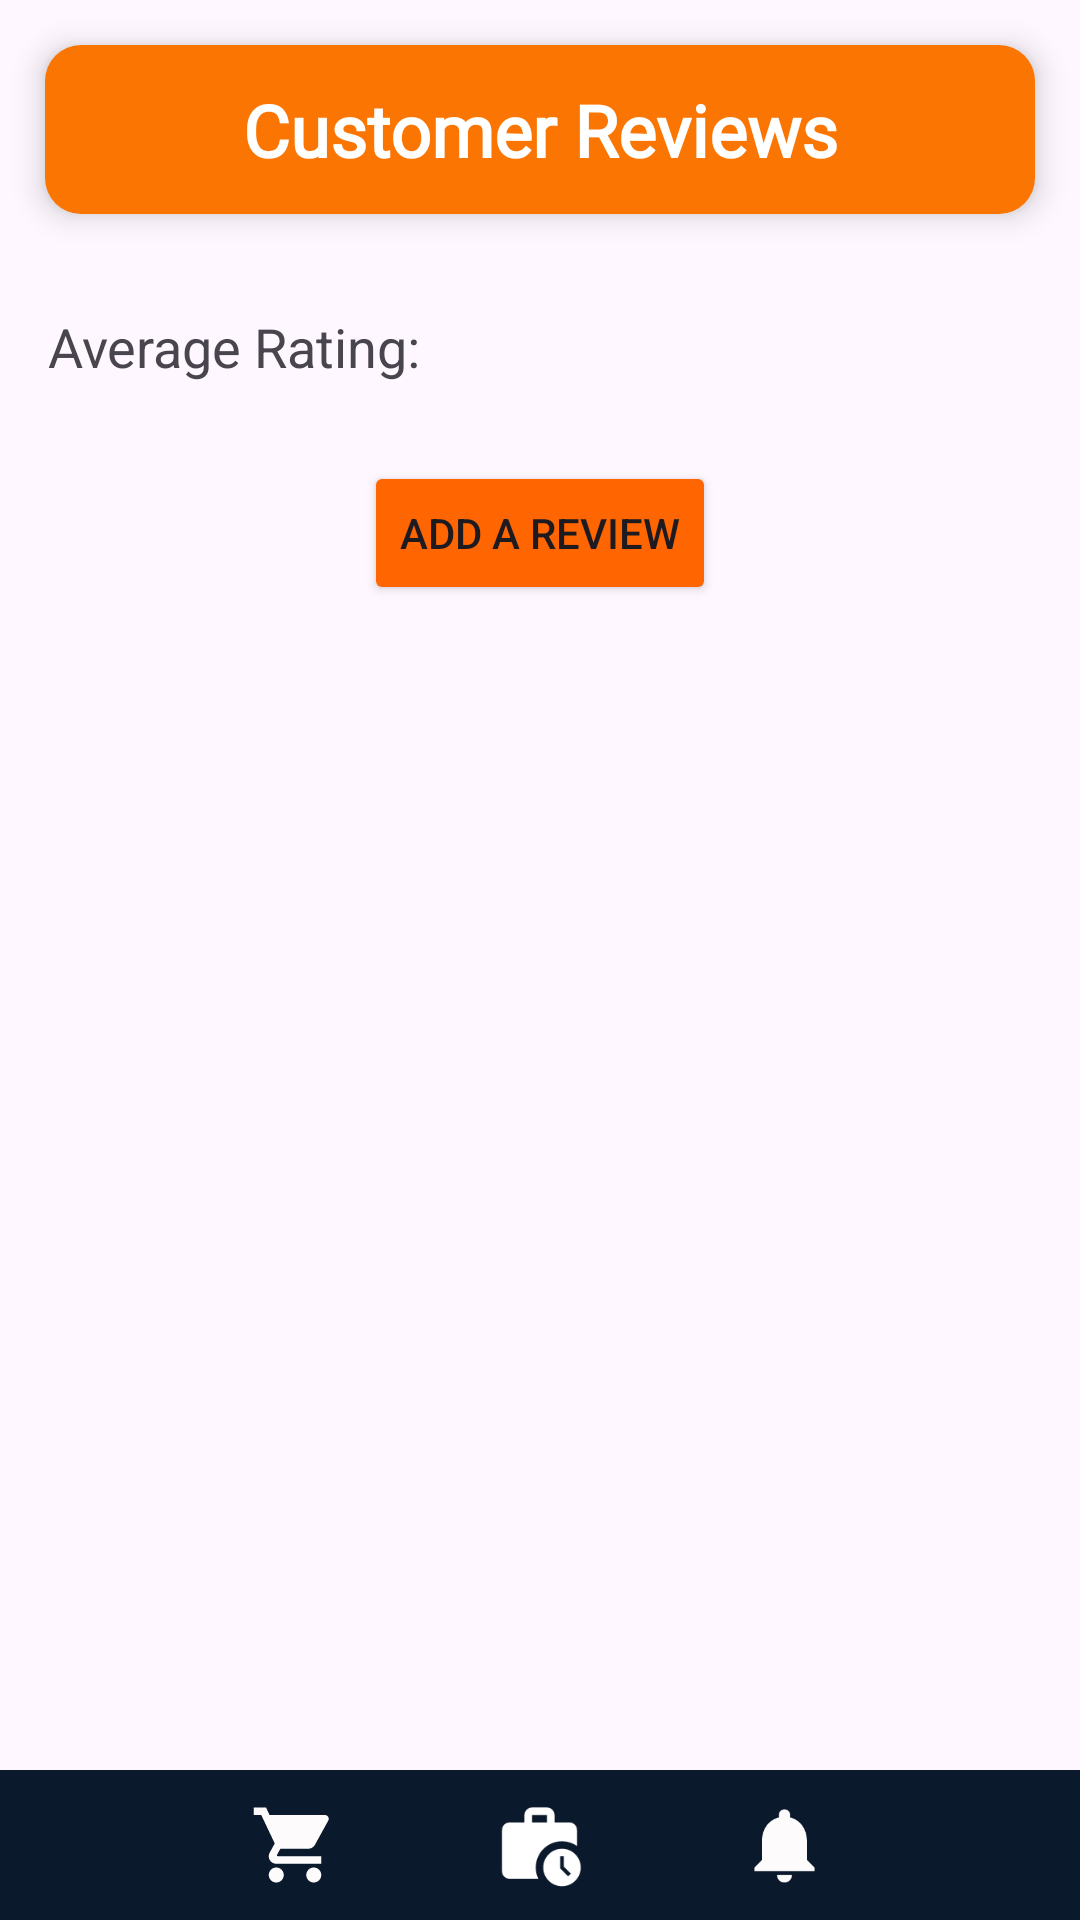

Screen size 1080 x 1920. Icon name, then its box in pixels as box(x1, y1, x2, y2):
cart: box(253, 1807, 329, 1883)
notifications: box(754, 1809, 815, 1883)
work history: box(501, 1807, 581, 1887)
